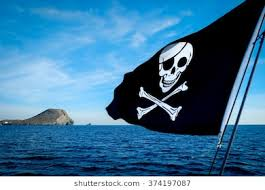Jolly Roger Flag: (95, 1, 262, 138)
